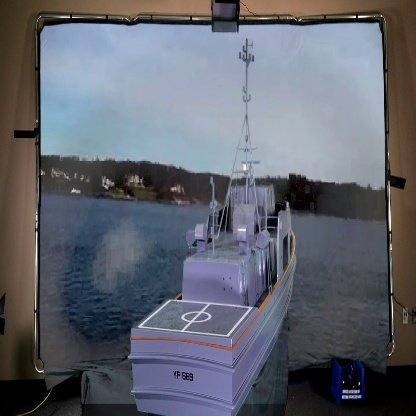YP689: (128, 38, 301, 416)
